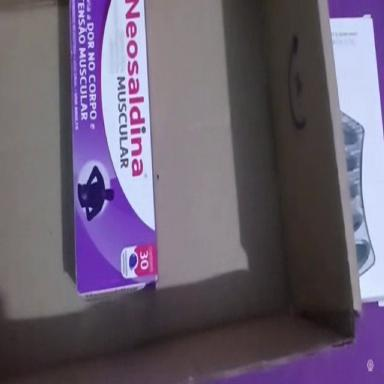Medicamento: (0, 0, 361, 384), (70, 0, 157, 295)
